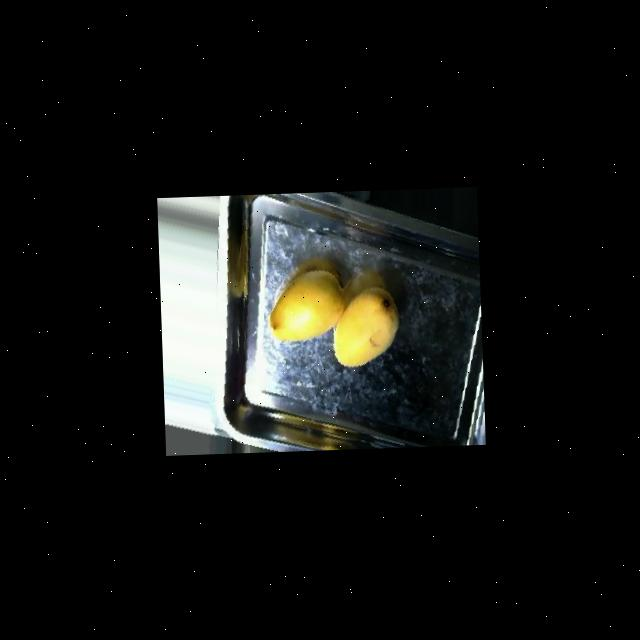Mango: (268, 267, 346, 342), (331, 286, 401, 368)
